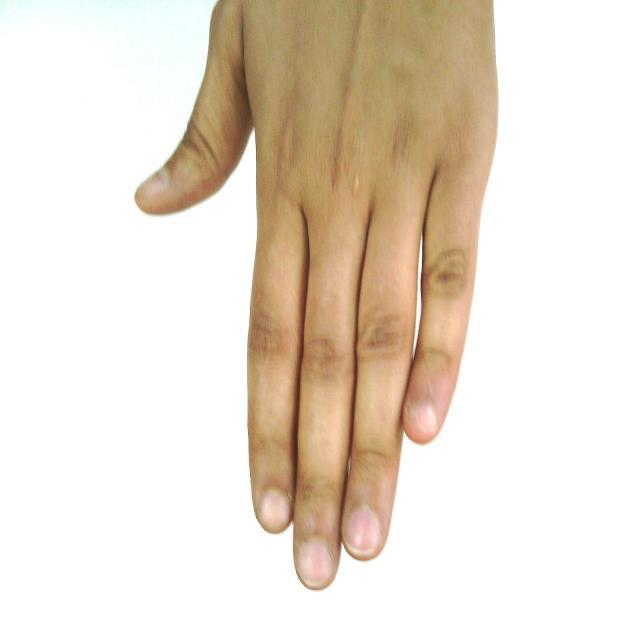Fingernail: (345, 508, 380, 552), (300, 542, 331, 586), (261, 492, 290, 528), (138, 170, 166, 199), (410, 405, 436, 433)
